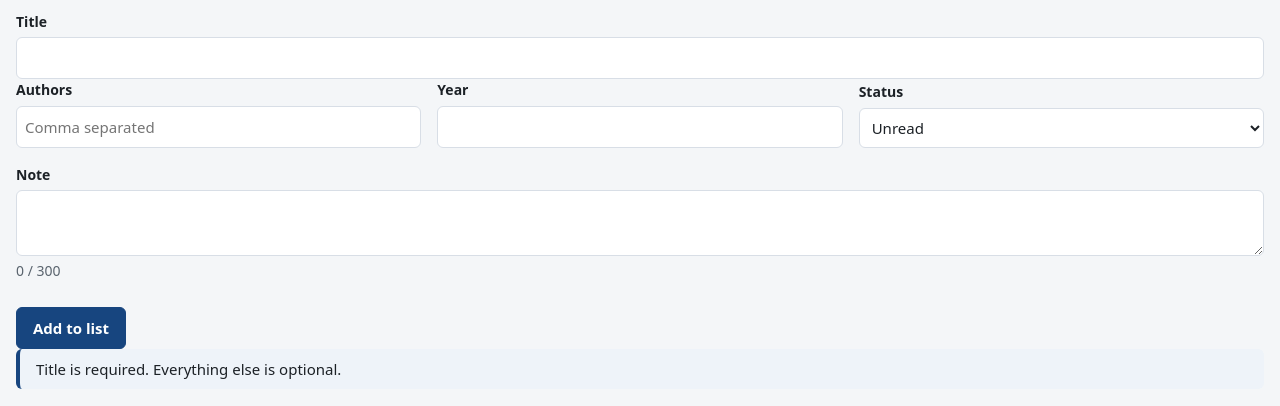
Test: BookForm: editing › counts the note's characters as they are typed
Expected: the text "0 / 300" is shown, [16,261,60,280]
Step 1. Type "abcde" into the text box labelled "Note" → [640, 223], box [16,190,1264,256]
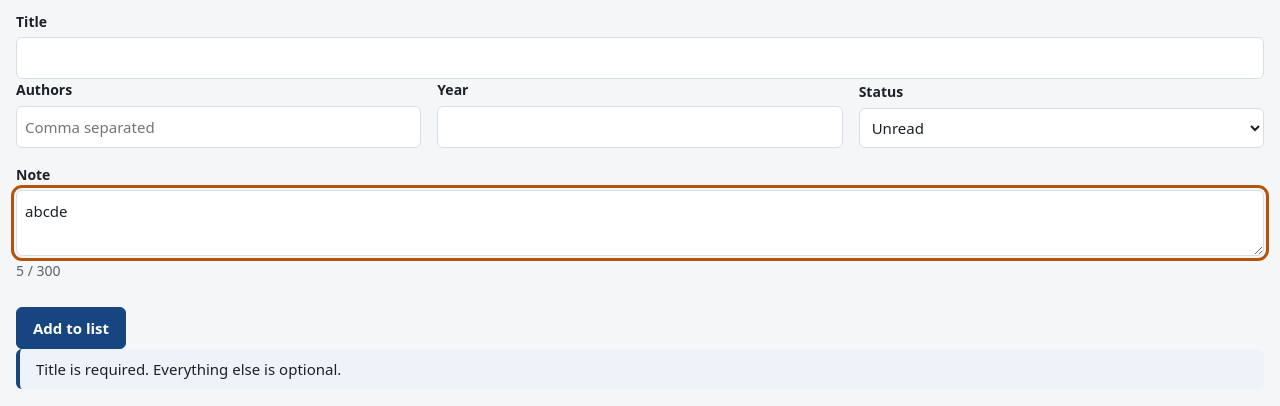
Expected: the text "5 / 300" is shown, [16,261,60,280]
